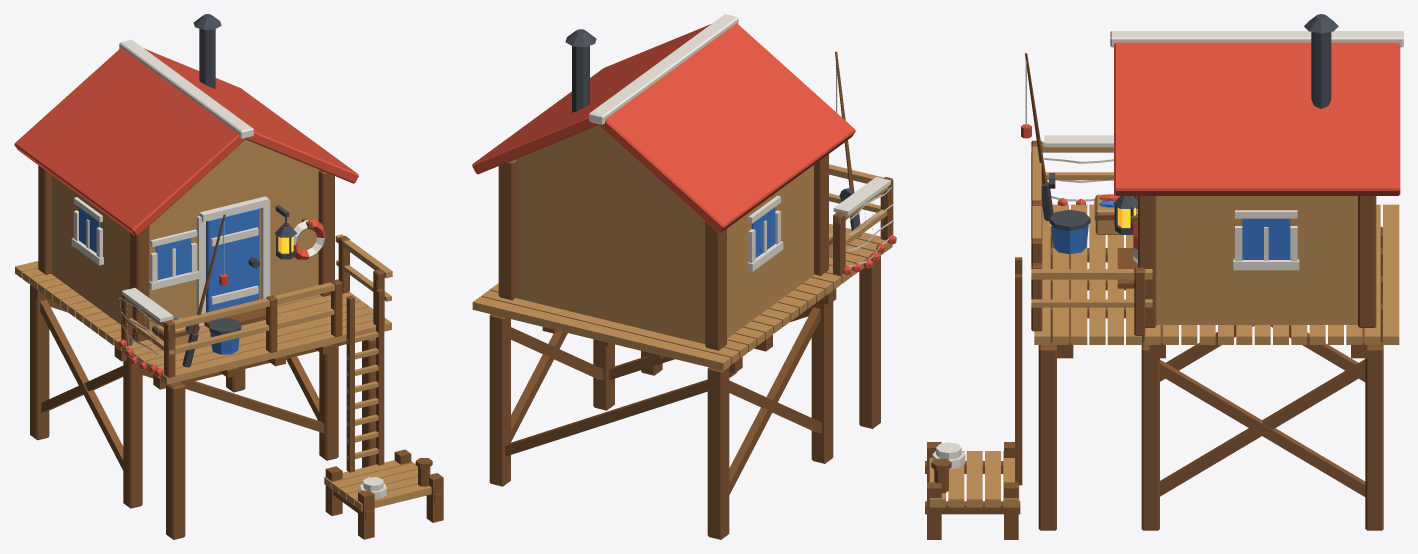
The model's file is stilted-fishing-hut.glb.
3 views of the same model, side by side, from view 1: azimuth 30°, elevation 25°; view 2: azimuth 150°, elevation 25°; view 3: azimuth 270°, elevation 25° (orthographic). The views are drawn at different scales.
Parts seen in each view (by area): view 1: FishingHut, Door, Lantern; view 2: FishingHut; view 3: FishingHut, Lantern.
Part boxes in pixels (box(x1,y1,x2,y2)): FishingHut: box(14, 14, 443, 539); Door: box(206, 208, 259, 312); Lantern: box(275, 217, 296, 259); FishingHut: box(472, 14, 896, 539); FishingHut: box(925, 14, 1403, 539); Lantern: box(1113, 196, 1137, 234).
Size of the model in its own units: 18.28 by 28.97 by 26.1.
